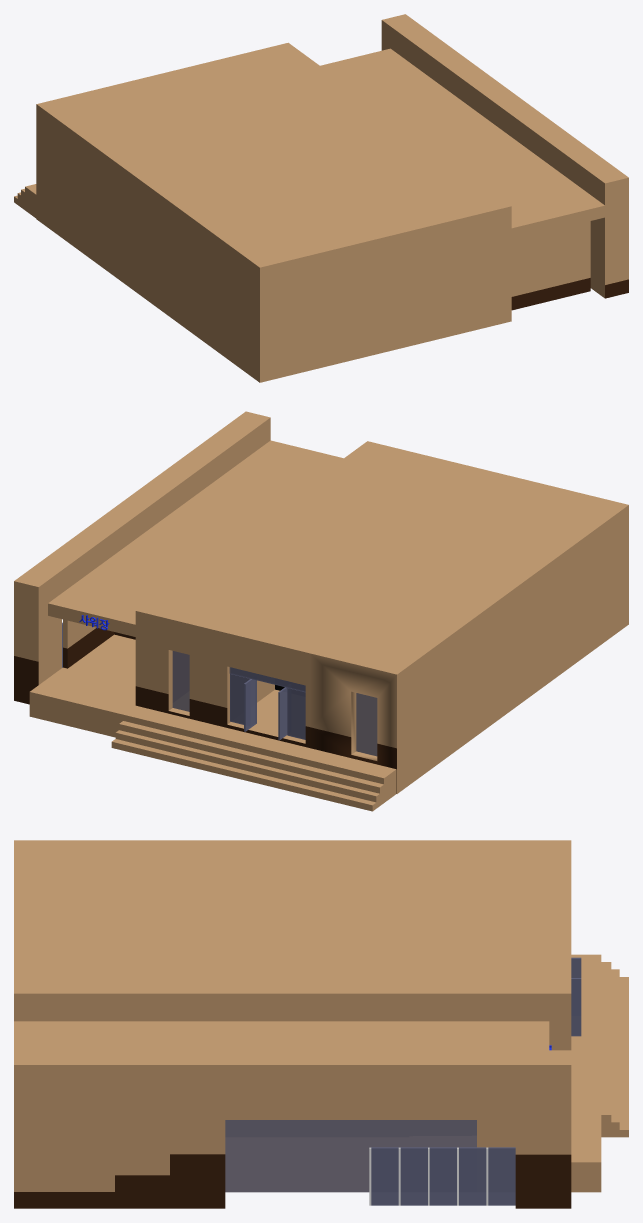
The model's file is MS_ShowerBooth.fbx.
3 views of the same model, one above another, from view 1: azimuth 30°, elevation 25°; view 2: azimuth 150°, elevation 25°; view 3: azimuth 270°, elevation 25° (orthographic). The views are drawn at different scales.
Parts seen in each view (by area): view 1: MS_ShowerBooth; view 2: MS_ShowerBooth; view 3: MS_ShowerBooth.
Part boxes in pixels (x1=…): MS_ShowerBooth: x1=14, y1=14, x2=628, y2=382; MS_ShowerBooth: x1=14, y1=411, x2=628, y2=811; MS_ShowerBooth: x1=14, y1=840, x2=628, y2=1208.
Size of the model in its own units: 847 by 979 by 253.
